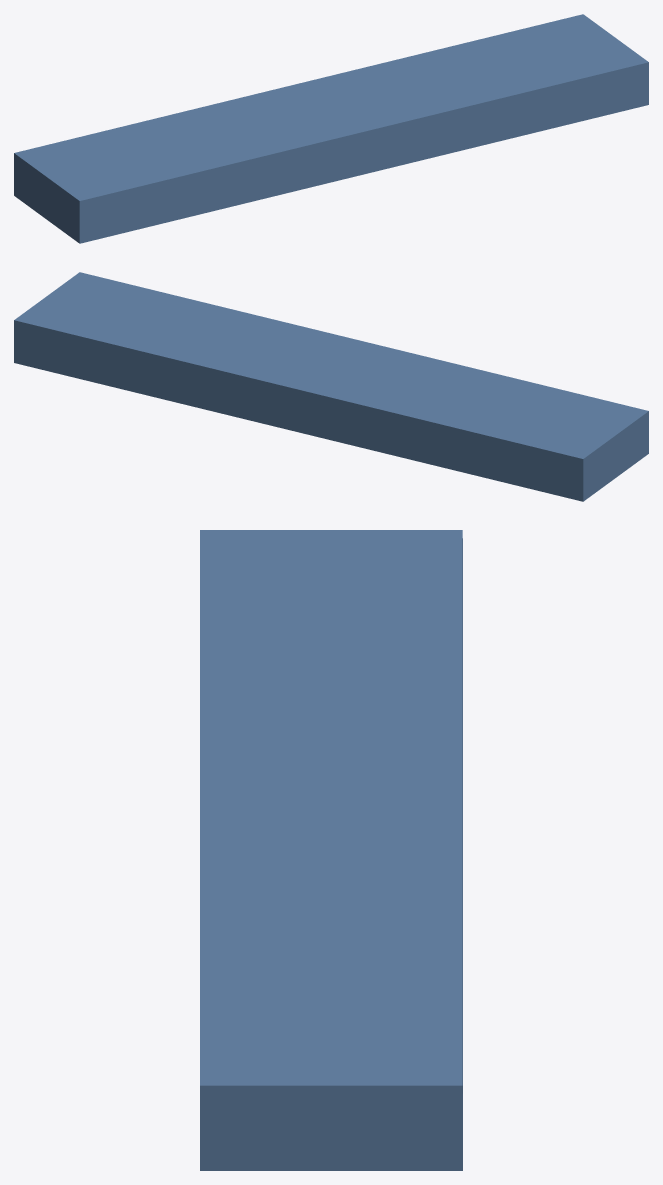
Rendered from Trim_Strip.fbx.
The picture shows the model from 3 angles, top to bottom: view 1: azimuth 30°, elevation 25°; view 2: azimuth 150°, elevation 25°; view 3: azimuth 270°, elevation 25°; orthographic projection. The views are drawn at different scales.
Visible parts, largest first — view 1: Trim_Strip; view 2: Trim_Strip; view 3: Trim_Strip.
Boxes of the visible parts, x1=… form: Trim_Strip: x1=14, y1=14, x2=648, y2=243; Trim_Strip: x1=14, y1=272, x2=648, y2=501; Trim_Strip: x1=200, y1=530, x2=462, y2=1170.
Bounding box in the file's own units: 1 × 0.0717 × 0.2001.
1 material, 1 textured.
